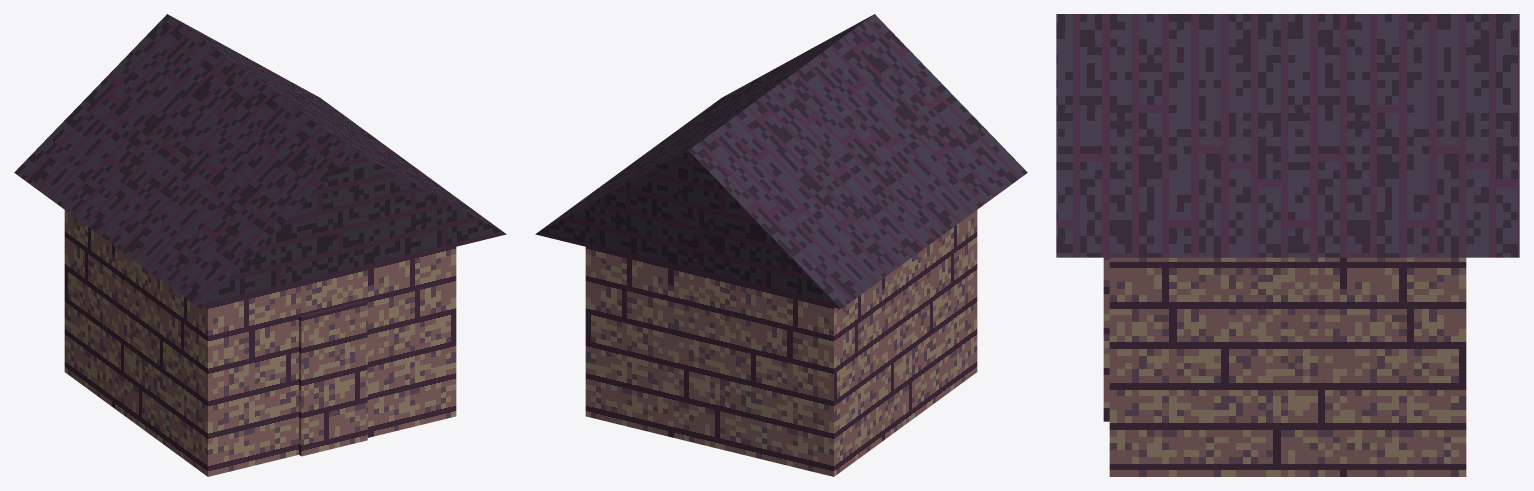
File: a72_casa_medieval.glb
The picture shows the model from 3 angles, left to right: view 1: azimuth 30°, elevation 25°; view 2: azimuth 150°, elevation 25°; view 3: azimuth 270°, elevation 25°; orthographic projection. The views are drawn at different scales.
Parts seen in each view (by area): view 1: a72_casa_medieval; view 2: a72_casa_medieval; view 3: a72_casa_medieval.
Boxes of the visible parts, x1,y1,x2,y2 form: a72_casa_medieval: (14,14,506,476); a72_casa_medieval: (535,14,1027,476); a72_casa_medieval: (1056,14,1519,476).
Bounding box in the file's own units: 3.7 × 3.6 × 3.9.
2 materials, 2 textured.
